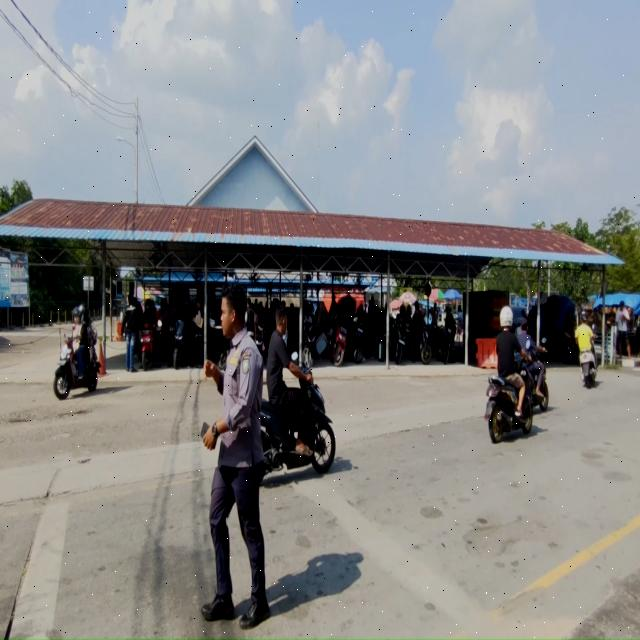Golongan II: (260, 352, 336, 473), (484, 356, 534, 443), (53, 336, 100, 400), (527, 338, 549, 412), (300, 322, 324, 370), (210, 322, 231, 371), (140, 322, 158, 372), (437, 320, 456, 364), (332, 314, 348, 366), (348, 318, 365, 364), (394, 320, 410, 366), (172, 319, 186, 370), (580, 349, 597, 388), (419, 320, 432, 365), (253, 322, 265, 355)
